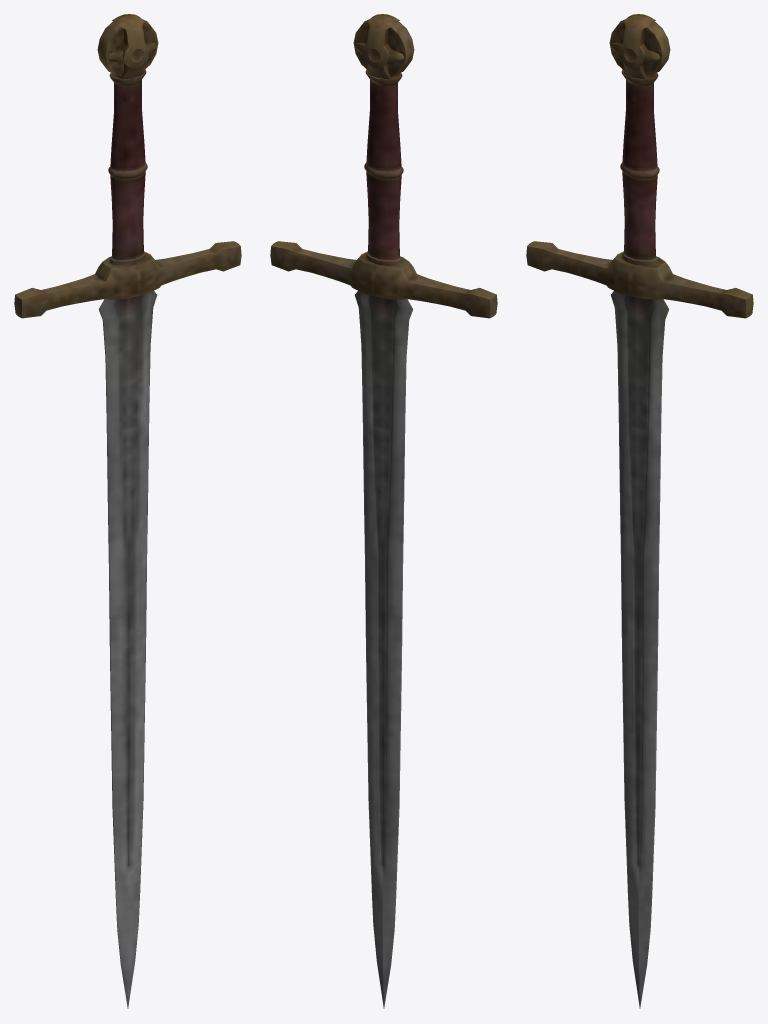
Rendered from weapon-wp_a_0207.glb.
3 renders of one model, left to right at view 1: azimuth 30°, elevation 25°; view 2: azimuth 150°, elevation 25°; view 3: azimuth 330°, elevation 25°, orthographic.
Visible parts, largest first — view 1: wp_a_0207_mesh; view 2: wp_a_0207_mesh; view 3: wp_a_0207_mesh.
Part boxes in pixels (box(x1,y1,x2,y2)): wp_a_0207_mesh: box(14, 14, 241, 1008); wp_a_0207_mesh: box(270, 14, 497, 1008); wp_a_0207_mesh: box(526, 14, 753, 1008).
Size of the model in its own units: 0.2595 by 1.11 by 0.0446.
Materials: 2 (2 with a texture image).
